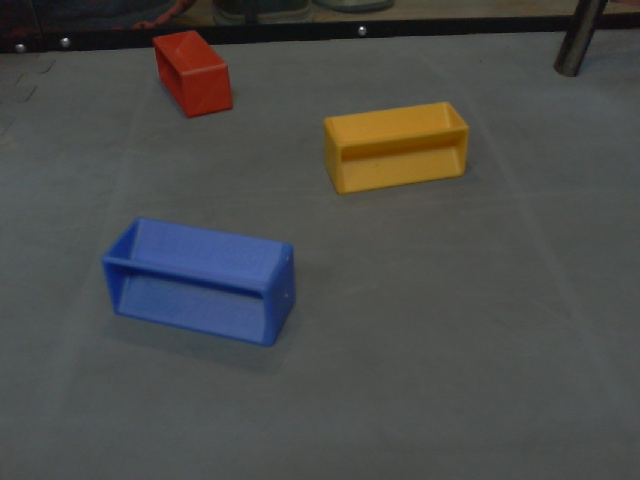BlueSample: (99, 214, 298, 350)
RedSample: (151, 27, 234, 119)
YellowSample: (320, 100, 471, 196)
